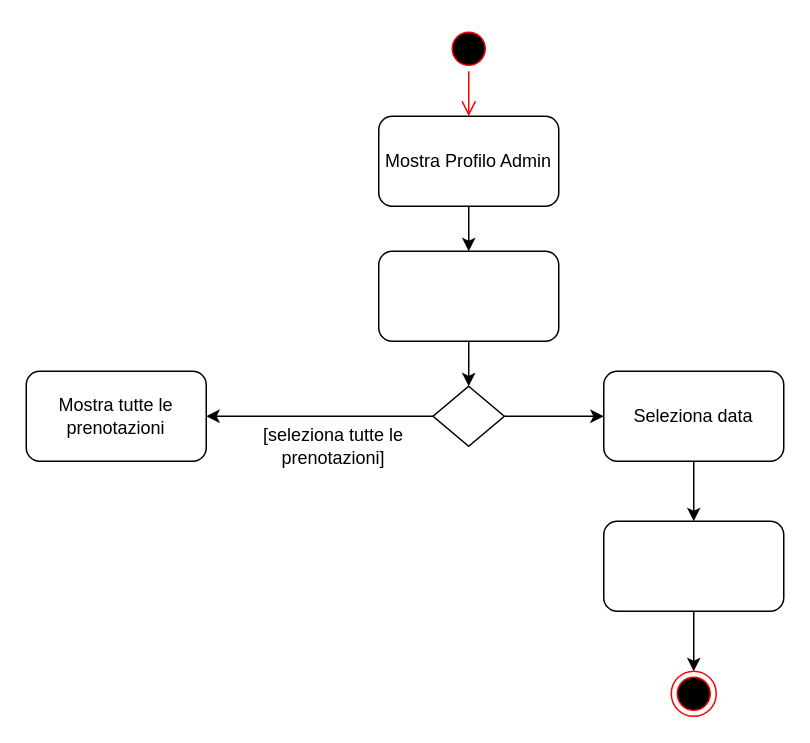
Some shapes in this 810 by 743 pixel diagram are drawn without their labels. The shapes that lost their labels are listed below. From the top down, each one's centre as x and y in pixels, then its label:
the point at 468,295: Seleziona Lista Prenotazioni
the point at 693,565: Mostra prenotazioni del giorno
